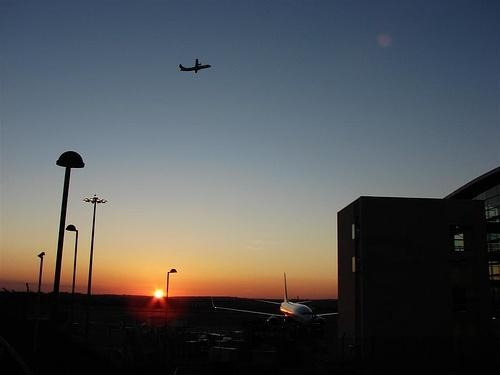aeroplane: (214, 273, 340, 323), (179, 59, 210, 74)
